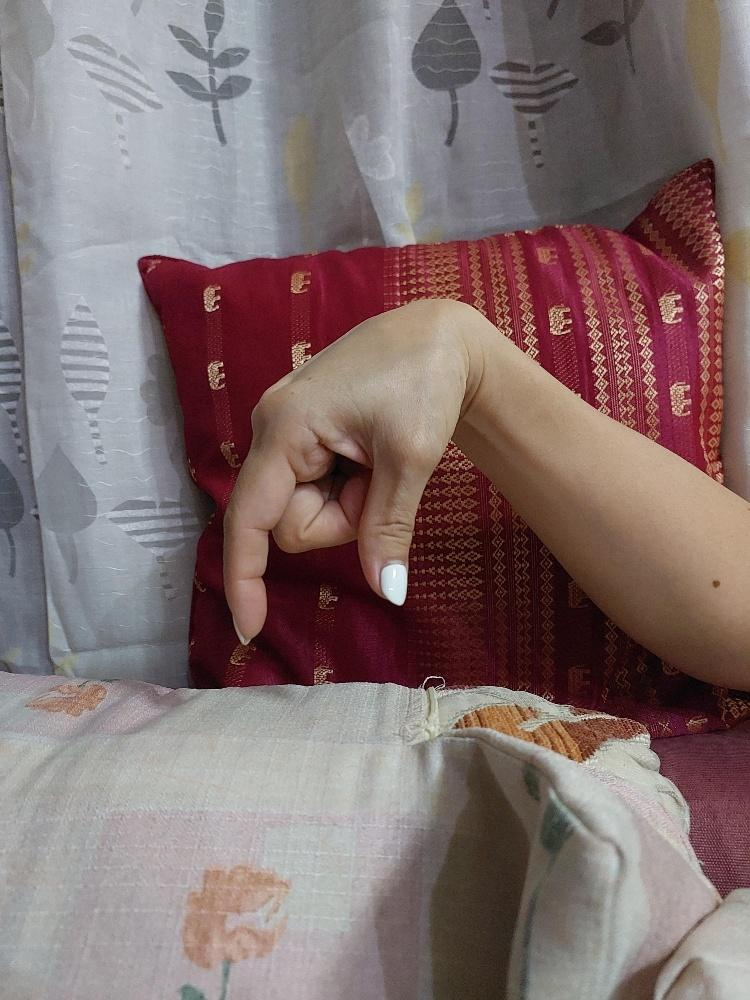q: (219, 294, 465, 648)
